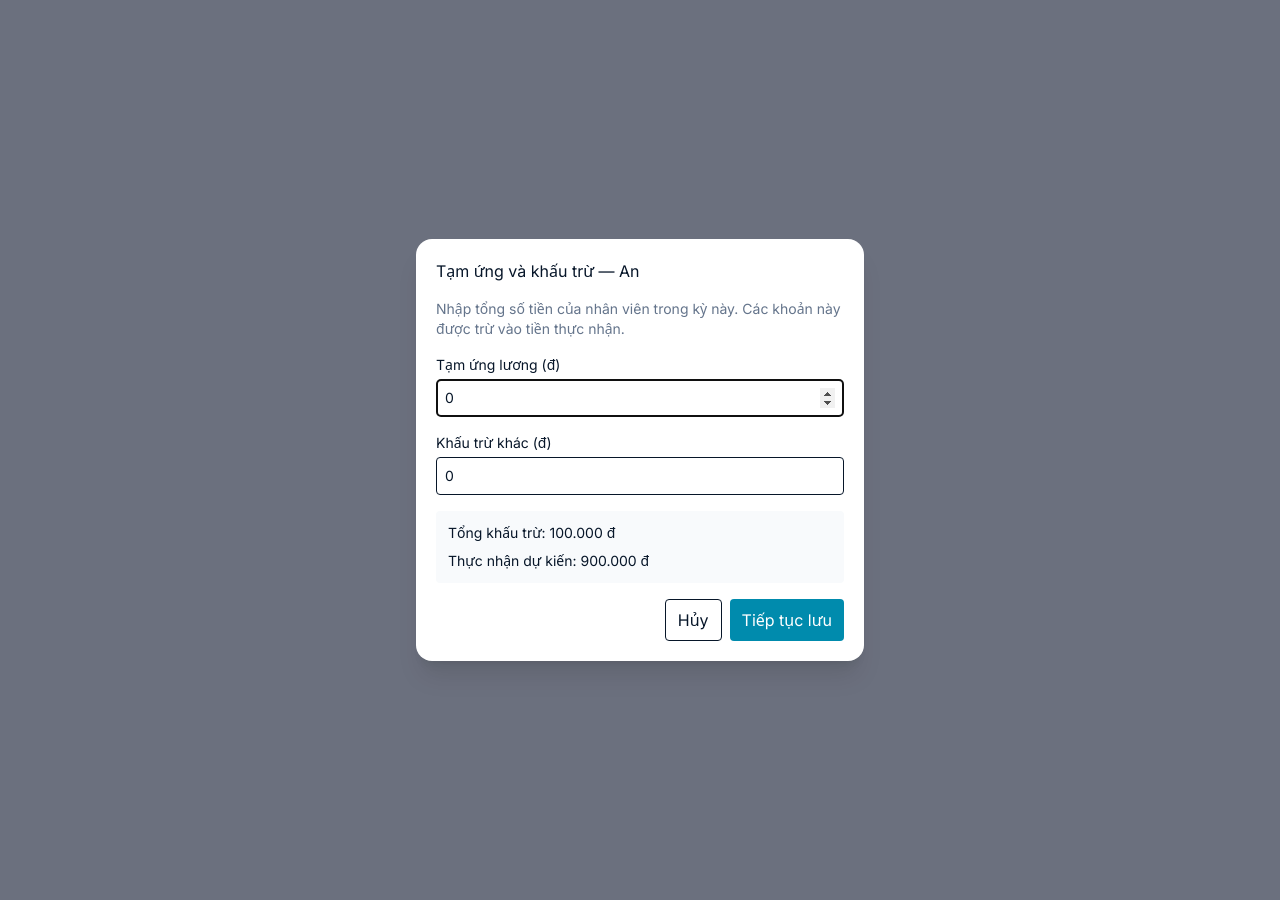
employee deductions › previews deductions exceeding income without a negative payout
Replace the text in the number field labelled "Tạm ứng lương (đ)" with "1200000". click: (640, 398)
box: [436,379,844,417]
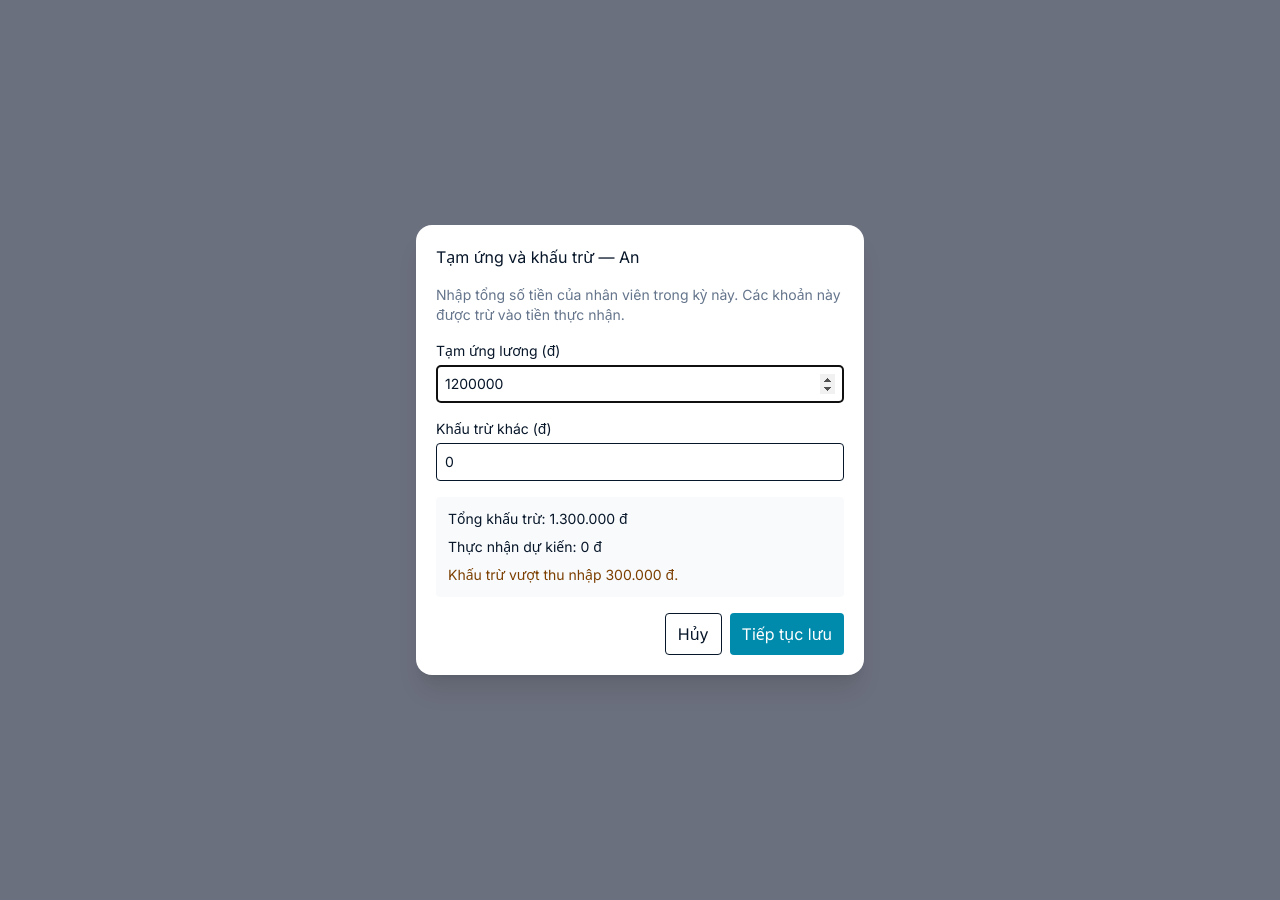
Check: the text "Thực nhận dự kiến: 0 đ" is shown, box [448,538,602,555]
Check: the text "Khấu trừ vượt thu nhập 300.000 đ." is shown, box [448,566,678,583]
